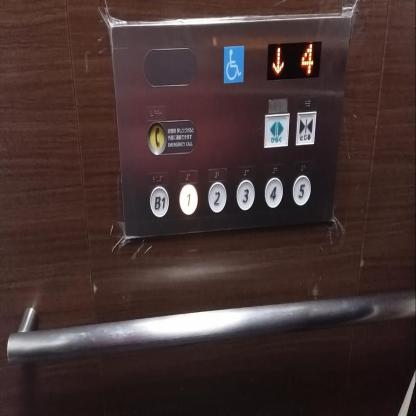1: (178, 183, 198, 214)
2: (208, 182, 227, 212)
3: (236, 178, 255, 210)
4: (264, 176, 283, 208)
5: (292, 174, 311, 206)
B1: (150, 185, 168, 218)
CH: (223, 45, 244, 84)
call: (146, 121, 167, 155)
close: (295, 111, 316, 146)
empty: (143, 47, 197, 86)
led: (267, 41, 321, 80)
open: (263, 112, 290, 148)
